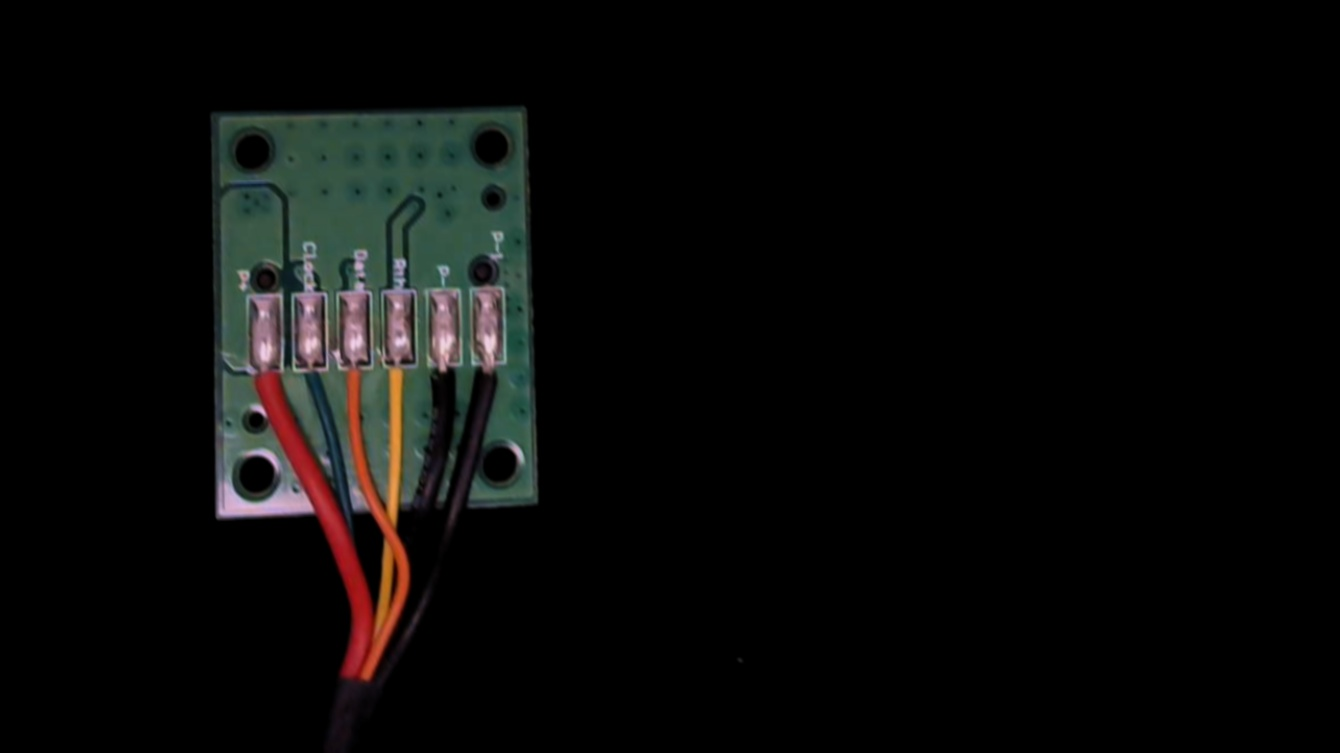Black: (424, 341, 463, 431)
Black1: (472, 339, 510, 422)
Green: (290, 344, 330, 430)
Orange: (336, 343, 372, 432)
Red: (244, 346, 283, 432)
Yellow: (380, 343, 419, 434)
